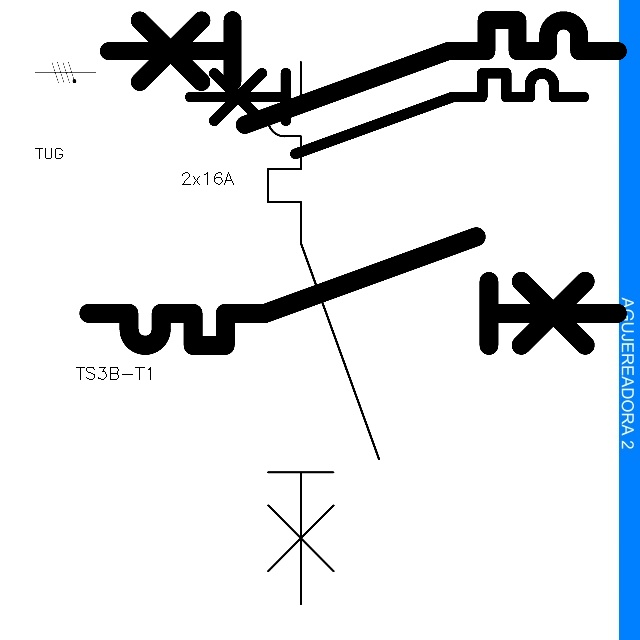interruptor_termomagnetico: (254, 48, 393, 618), (75, 223, 631, 359), (95, 7, 630, 138), (180, 63, 594, 164)
